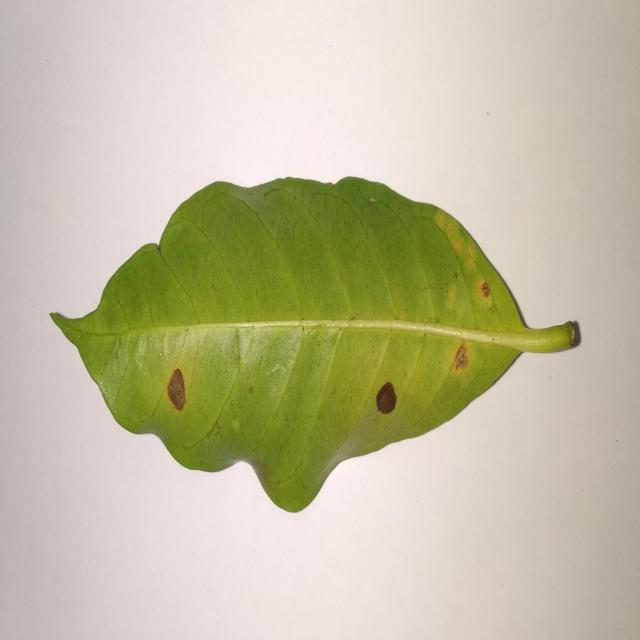Enfermedad-Mancha-de-hierro: (50, 176, 582, 501)
